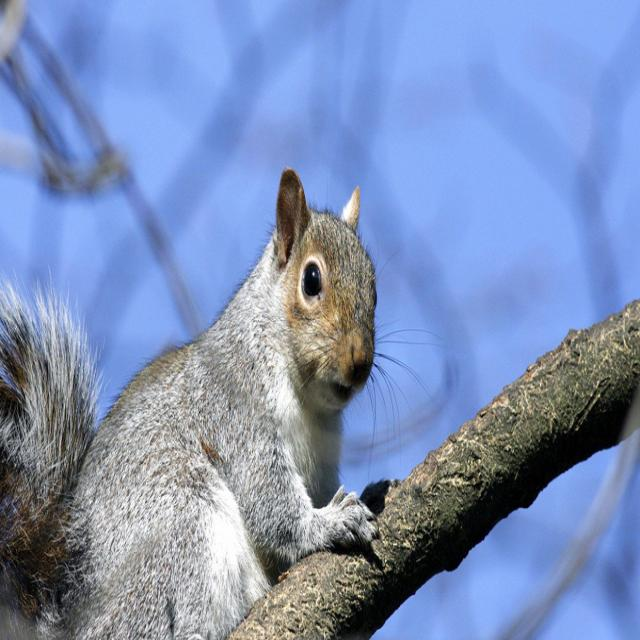Squirrel: (0, 157, 380, 640)
